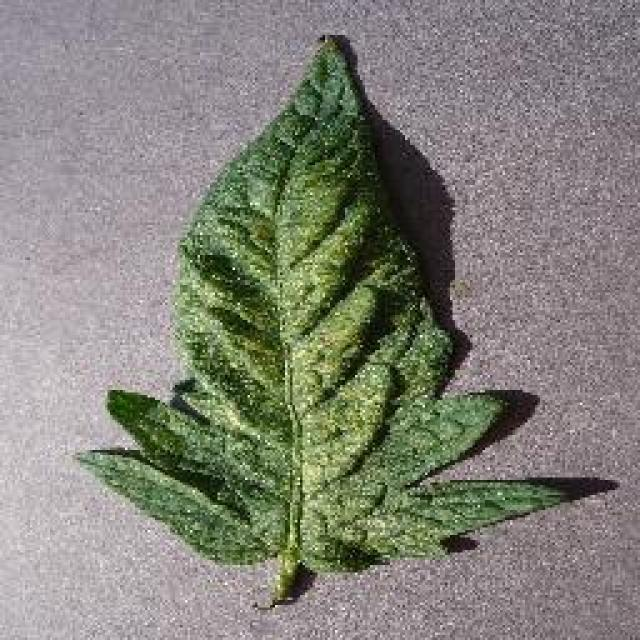Tomato mosaic virus leaf: (76, 34, 566, 578)
